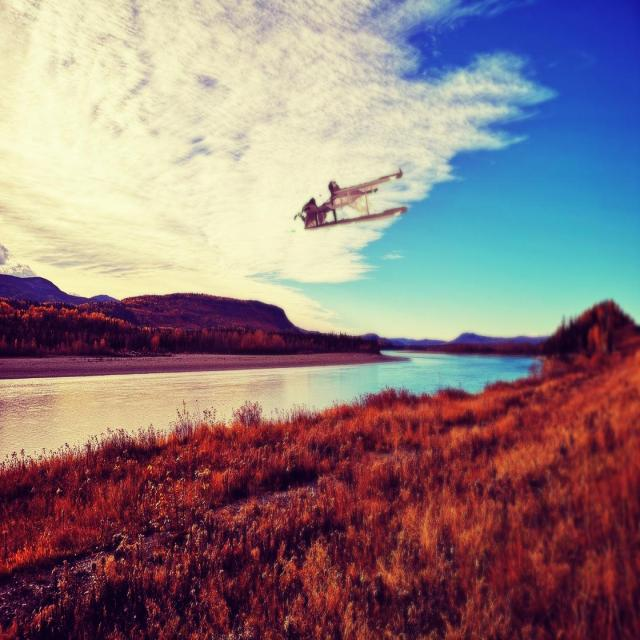airplane: (294, 167, 408, 229)
